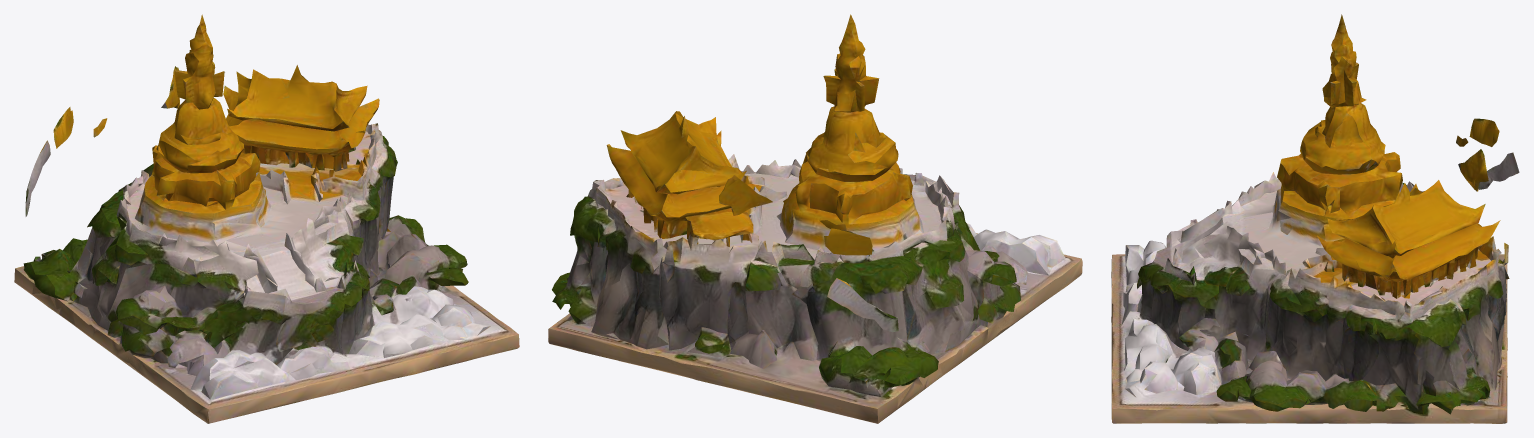
File: emeishan.glb
3 renders of one model, left to right at view 1: azimuth 30°, elevation 25°; view 2: azimuth 150°, elevation 25°; view 3: azimuth 270°, elevation 25°, orthographic. The views are drawn at different scales.
Parts seen in each view (by area): view 1: logan-textured.obj; view 2: logan-textured.obj; view 3: logan-textured.obj.
Part boxes in pixels (x1,y1,x2,y2): logan-textured.obj: (14,14,519,423); logan-textured.obj: (548,14,1082,423); logan-textured.obj: (1111,14,1519,423).
Size of the model in its own units: 1 by 0.826 by 0.9905.
Materials: 1 (1 with a texture image).
